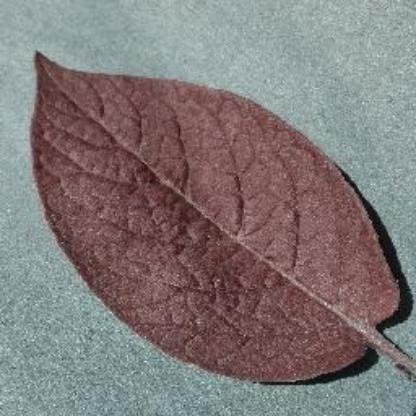Healthy-plant: (21, 38, 406, 392)
